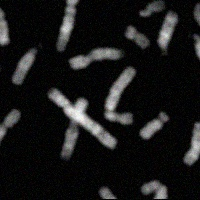chromosome: (50, 89, 117, 149), (104, 67, 135, 124), (61, 95, 87, 158), (69, 45, 122, 68), (0, 110, 21, 168), (55, 0, 78, 51), (12, 48, 40, 84), (182, 0, 200, 55), (158, 12, 179, 52), (181, 122, 200, 166), (141, 111, 168, 138), (124, 22, 149, 49), (141, 178, 169, 198), (0, 0, 11, 43), (139, 0, 164, 15), (193, 32, 200, 75), (98, 186, 117, 199), (194, 4, 200, 27), (0, 67, 2, 102)
